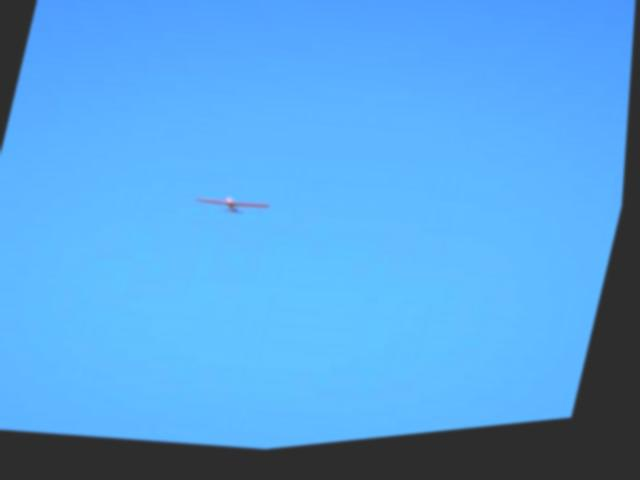iha: (193, 190, 276, 232)
